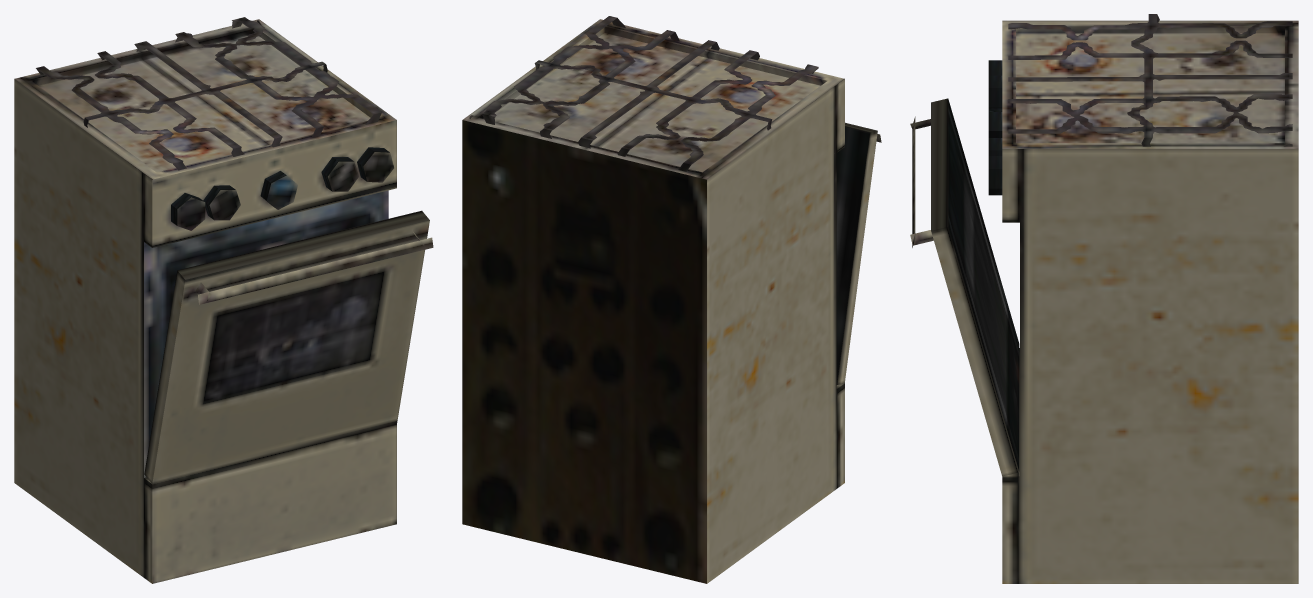
File: CoocingMachine.fbx
The picture shows the model from 3 angles, left to right: view 1: azimuth 30°, elevation 25°; view 2: azimuth 150°, elevation 25°; view 3: azimuth 270°, elevation 25°; orthographic projection. The views are drawn at different scales.
Parts seen in each view (by area): view 1: Cooker2; view 2: Cooker2; view 3: Cooker2.
Boxes of the visible parts, <box> form: Cooker2: <box>14,17,433,583</box>; Cooker2: <box>462,16,881,583</box>; Cooker2: <box>910,14,1298,583</box>.
Bounding box in the file's own units: 74.91 × 121 × 95.79.
Materials: 1 (1 with a texture image).
